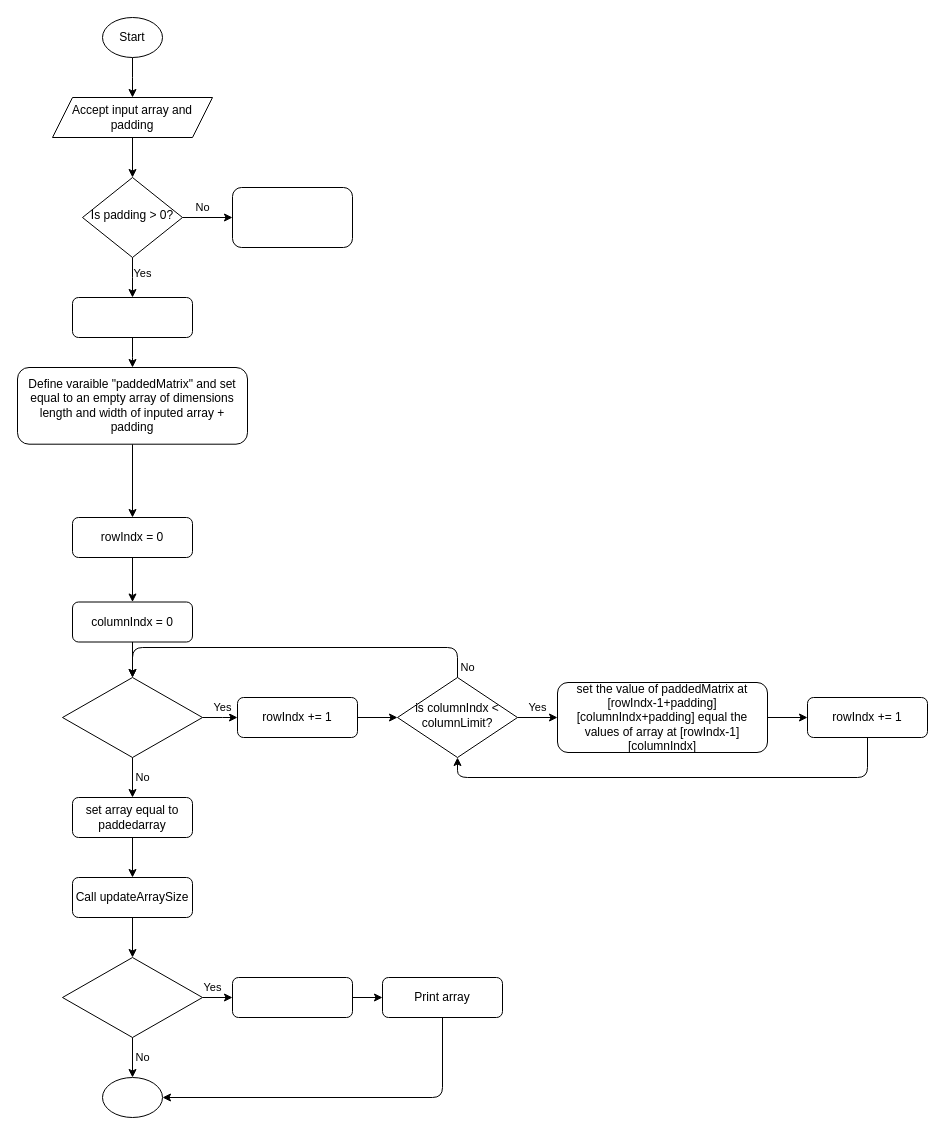
This 945x1135 diagram has some shape labels left out. Here are the shapes that lost their labels. From the top down, the centre of each, then its label:
[292,217]: Print "Cannot pad a negative or zero amount"
[132,317]: transform padding into an int
[132,717]: is rowIndx < rowLimit?
[132,997]: is debugMode True?
[292,997]: Print padding
[132,1097]: End
